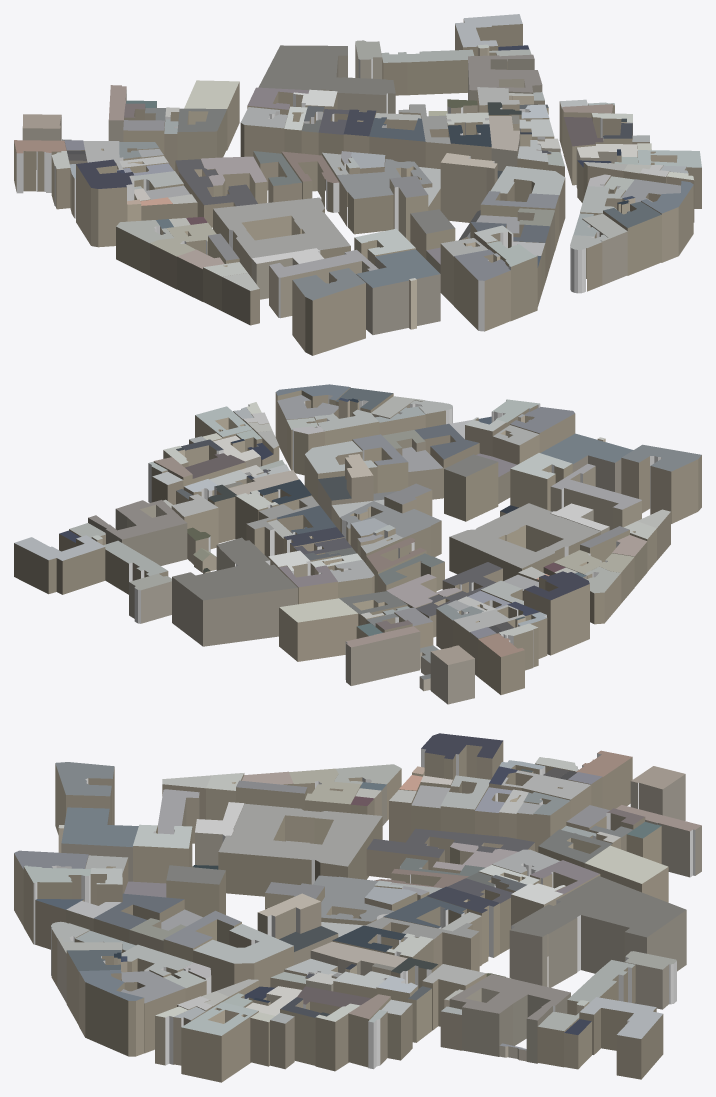
3 renders of one model, top to bottom at view 1: azimuth 30°, elevation 25°; view 2: azimuth 150°, elevation 25°; view 3: azimuth 270°, elevation 25°, orthographic. The views are drawn at different scales.
Visible parts, largest first — view 1: tuile; view 2: tuile; view 3: tuile.
Part boxes in pixels (<box>): tuile: <box>14,14,701,355</box>; tuile: <box>14,384,701,704</box>; tuile: <box>14,733,701,1082</box>.
Bounding box in the file's own units: 275 × 31.27 × 278.
